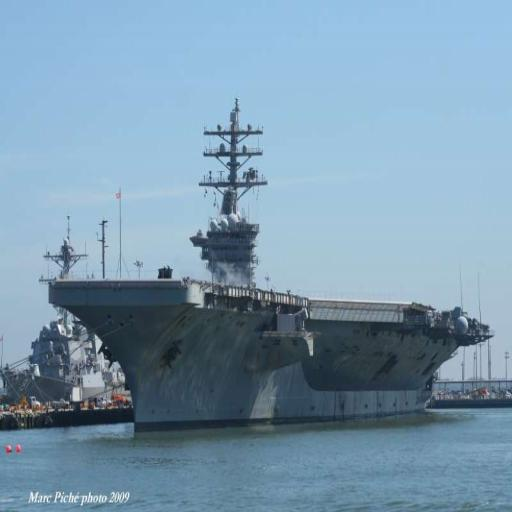Portanaves: (43, 99, 499, 437)
